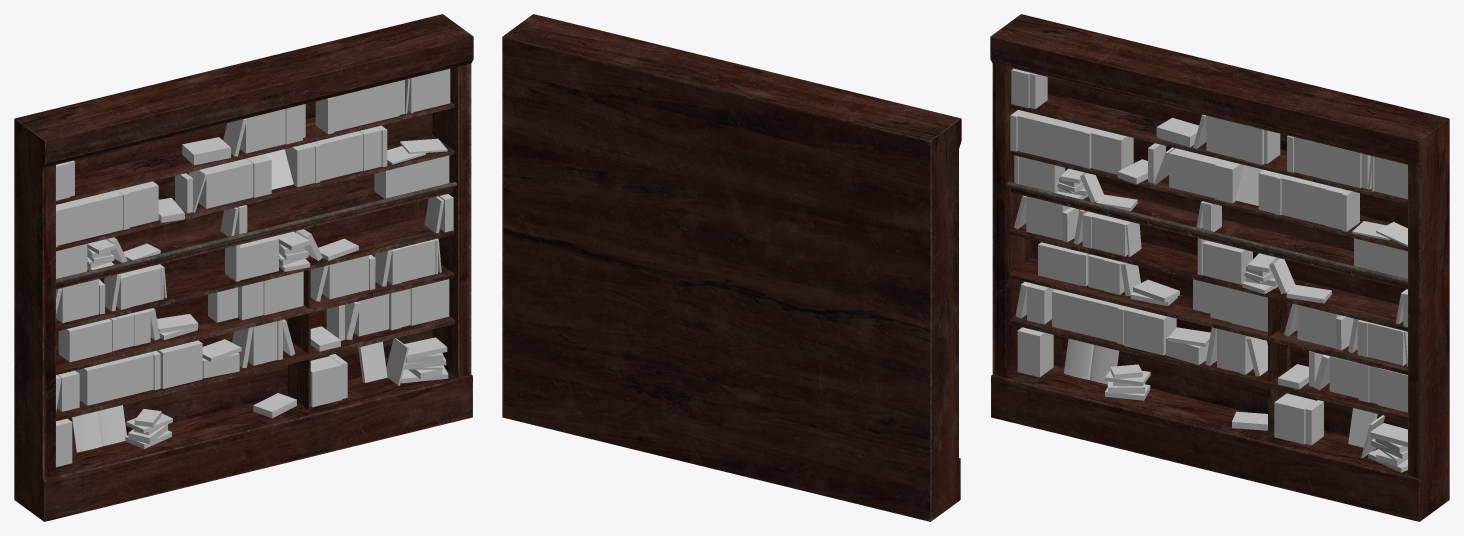
The model's file is SM_BookcaseB.FBX.
3 views of the same model, side by side, from view 1: azimuth 30°, elevation 25°; view 2: azimuth 150°, elevation 25°; view 3: azimuth 330°, elevation 25° (orthographic).
Visible parts, largest first — view 1: SM_BookcaseB_LOD0; view 2: SM_BookcaseB_LOD0; view 3: SM_BookcaseB_LOD0.
Part boxes in pixels (x1,y1,x2,y2): SM_BookcaseB_LOD0: (14, 14, 473, 521); SM_BookcaseB_LOD0: (502, 14, 961, 521); SM_BookcaseB_LOD0: (990, 14, 1449, 521).
Size of what is drawn, in the model's own units: 400 by 340 by 50.
